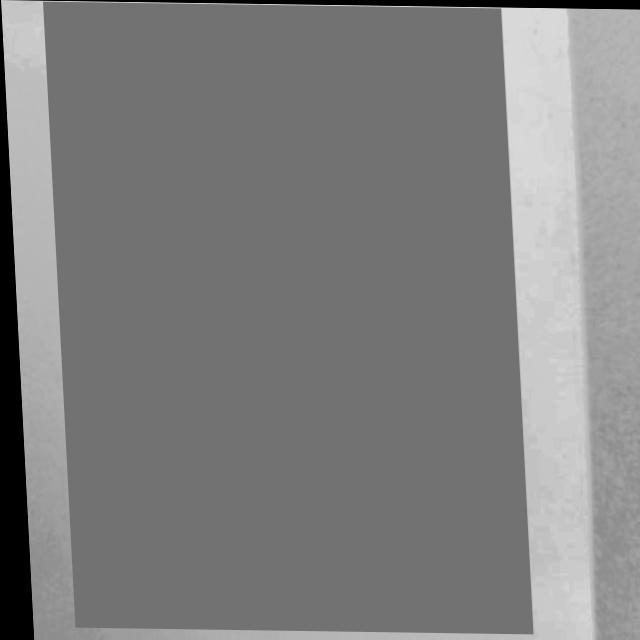qr_code: (42, 1, 526, 633)
